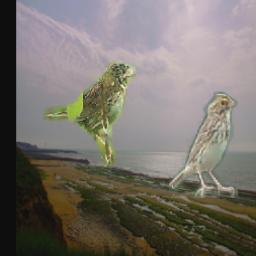Sparrow: (42, 60, 135, 168), (169, 93, 238, 199)
